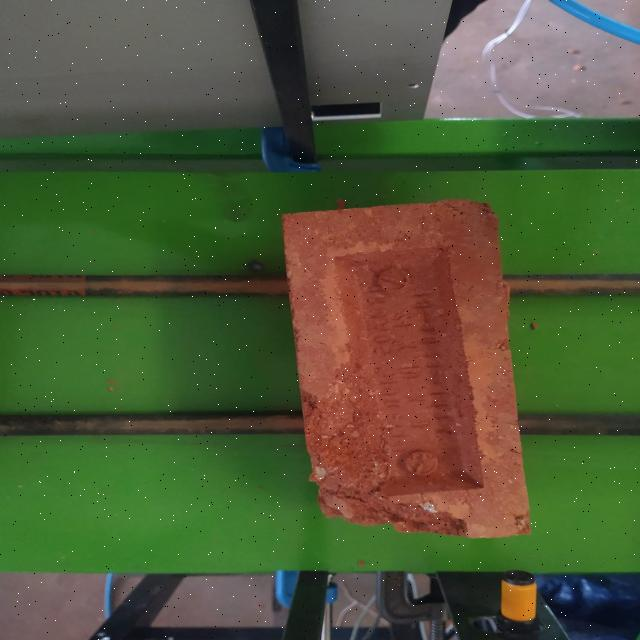bricks_ruin: (283, 201, 530, 541)
